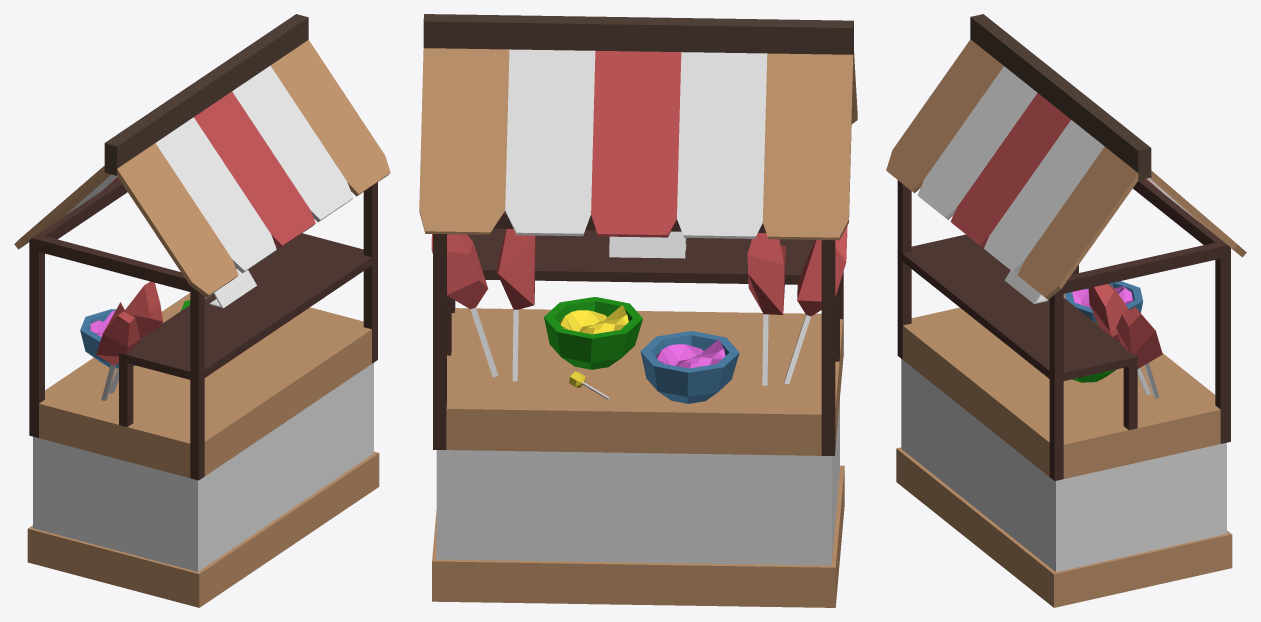
The model's file is Candy Stand.fbx.
3 views of the same model, side by side, from view 1: azimuth 30°, elevation 25°; view 2: azimuth 150°, elevation 25°; view 3: azimuth 270°, elevation 25° (orthographic). The views are drawn at different scales.
Parts seen in each view (by area): view 1: Candy Stand; view 2: Candy Stand; view 3: Candy Stand.
Boxes of the visible parts, x1,y1,x2,y2 form: Candy Stand: (14, 14, 390, 607); Candy Stand: (419, 14, 857, 607); Candy Stand: (886, 14, 1246, 607).
Size of the model in its own units: 358 by 313 by 424.
